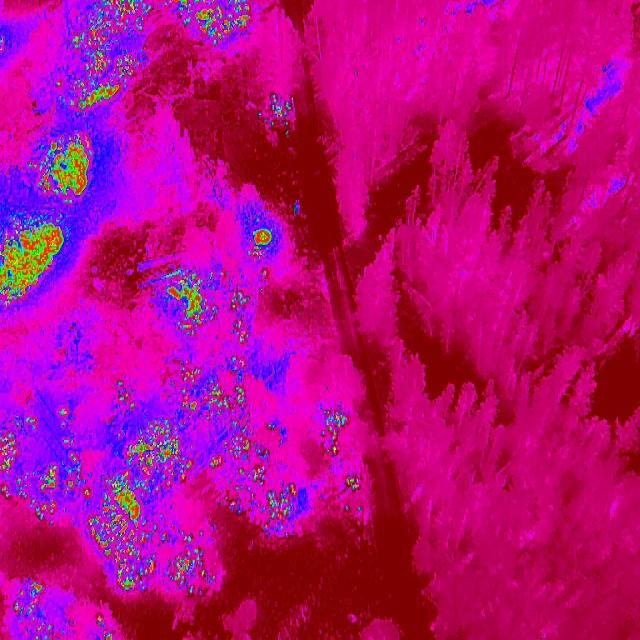fire: (0, 403, 80, 528), (83, 475, 159, 595), (54, 34, 140, 118), (0, 219, 66, 307), (170, 355, 252, 424), (120, 421, 196, 489), (221, 425, 272, 519), (30, 134, 96, 203), (171, 0, 254, 46), (165, 269, 221, 336), (166, 530, 219, 599), (82, 0, 155, 45), (11, 579, 61, 640), (316, 401, 359, 459), (260, 482, 300, 534), (256, 90, 296, 138), (243, 224, 276, 278), (227, 290, 252, 344), (93, 610, 113, 640), (340, 473, 362, 495), (209, 454, 225, 472), (266, 419, 278, 433), (0, 32, 3, 57)
